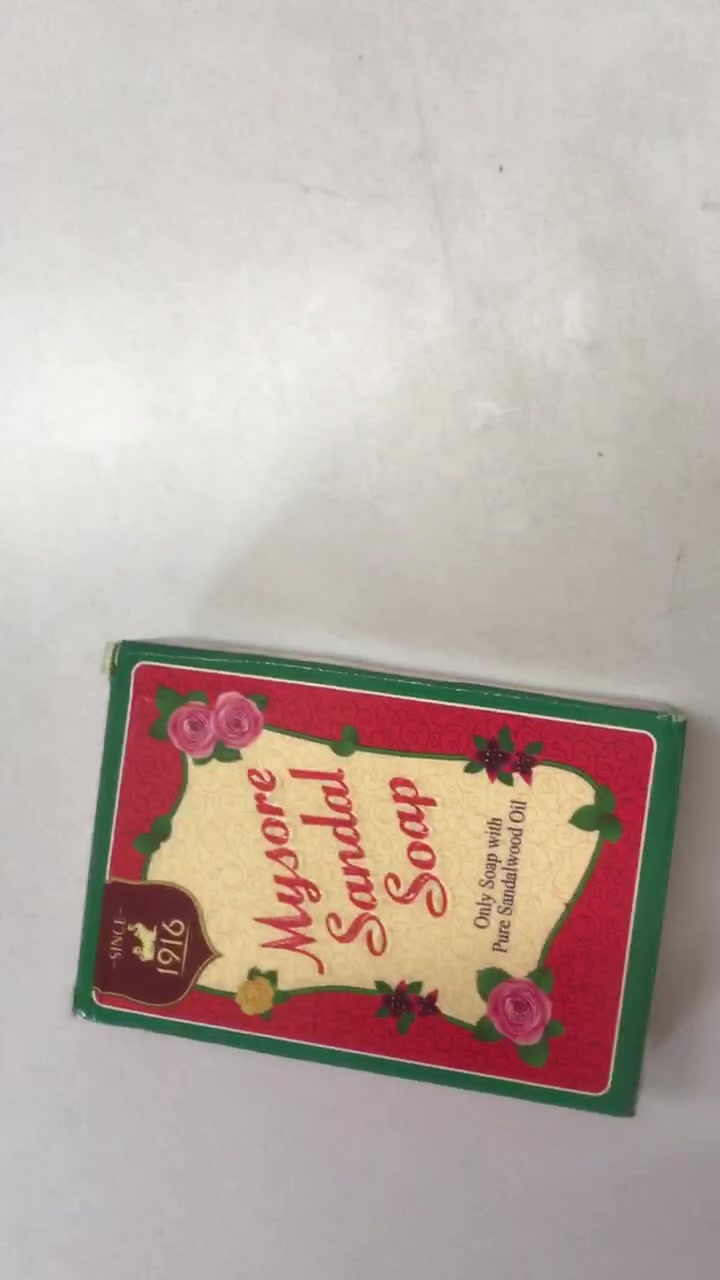mysore sandal soap: (70, 646, 687, 1121)
